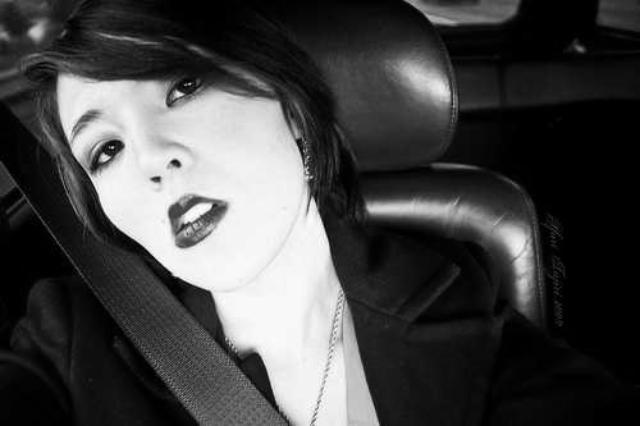SafeDriving: (166, 200, 232, 256), (82, 126, 134, 177), (156, 70, 213, 114)
Seatbelt: (0, 90, 298, 426)
